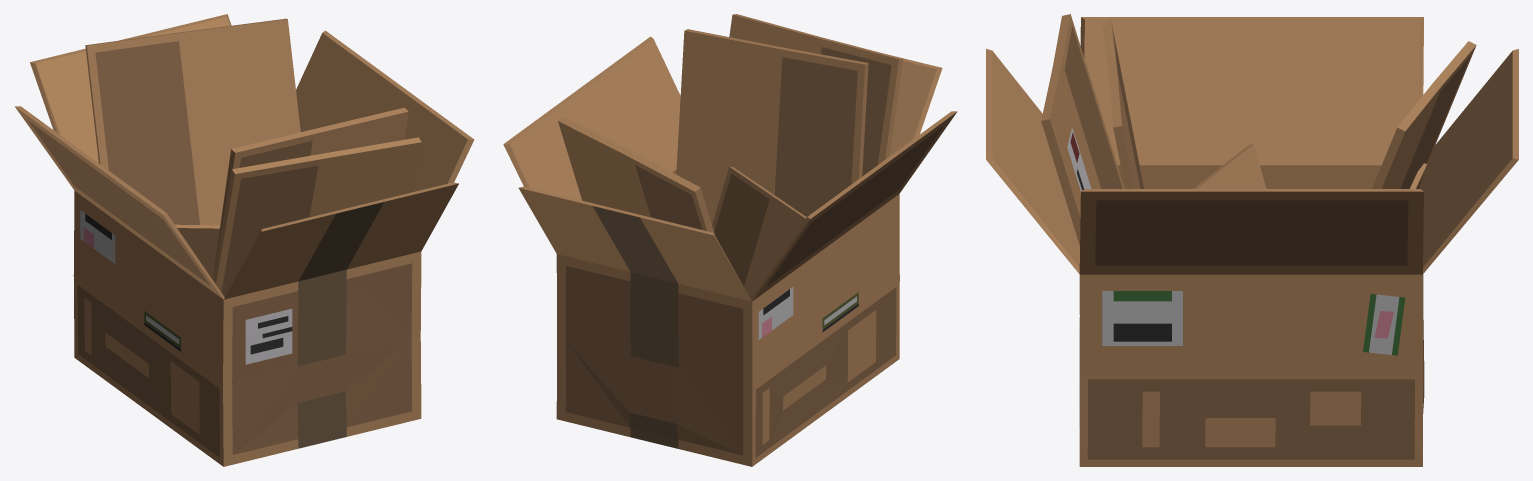
The model's file is SM_carton_box.gltf.
3 renders of one model, left to right at view 1: azimuth 30°, elevation 25°; view 2: azimuth 150°, elevation 25°; view 3: azimuth 270°, elevation 25°, orthographic. The views are drawn at different scales.
Parts seen in each view (by area): view 1: SM_carton_box; view 2: SM_carton_box; view 3: SM_carton_box.
Part boxes in pixels (bbox=[...]): SM_carton_box: bbox=[15, 14, 474, 466]; SM_carton_box: bbox=[503, 14, 957, 466]; SM_carton_box: bbox=[986, 14, 1518, 466].
Size of the model in its own units: 1.02 by 0.9518 by 1.32.
1 material, 1 textured.
